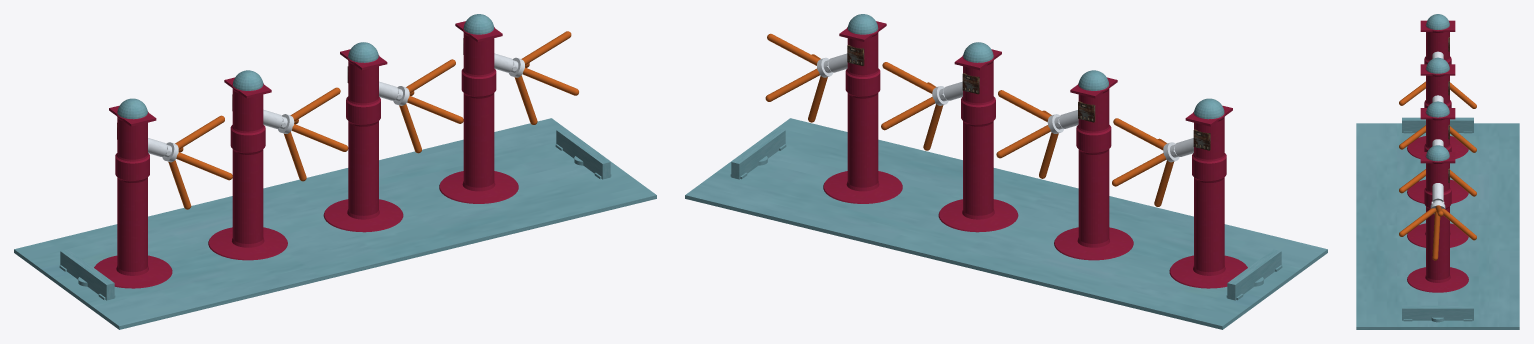
File: Other_Tripod_Turnstile__1122.glb
3 renders of one model, left to right at view 1: azimuth 30°, elevation 25°; view 2: azimuth 150°, elevation 25°; view 3: azimuth 270°, elevation 25°, orthographic. The views are drawn at different scales.
Parts seen in each view (by area): view 1: cabinet::base_plate, cabinet::post_body_-0.36, cabinet::post_body_+1.08, cabinet::post_body_+0.36, cabinet::post_body_-1.08, side_railing_0::frame, side_railing_1::frame, cabinet::dome_cap_-0.36, cabinet::dome_cap_-1.08, cabinet::dome_cap_+1.08, cabinet::dome_cap_+0.36, tripod_hub_0::arm_1 (+3 smaller); view 2: cabinet::base_plate, cabinet::post_body_-0.36, cabinet::post_body_+1.08, cabinet::post_body_+0.36, cabinet::post_body_-1.08, side_railing_0::frame, side_railing_1::frame, cabinet::dome_cap_-0.36, cabinet::dome_cap_-1.08, cabinet::dome_cap_+1.08, cabinet::dome_cap_+0.36, tripod_hub_1::arm_3 (+3 smaller); view 3: cabinet::base_plate, cabinet::post_body_+1.08, cabinet::post_body_+0.36, cabinet::post_body_-0.36, cabinet::post_body_-1.08, side_railing_1::frame, side_railing_0::frame, cabinet::dome_cap_+1.08, cabinet::dome_cap_+0.36, cabinet::dome_cap_-0.36, cabinet::dome_cap_-1.08, tripod_hub_3::arm_2 (+13 smaller).
Boxes of the visible parts, x1,y1,x2,y2 form: cabinet::base_plate: (14, 118, 656, 329); cabinet::post_body_-0.36: (208, 83, 287, 260); cabinet::post_body_+1.08: (439, 27, 518, 203); cabinet::post_body_+0.36: (323, 55, 403, 232); cabinet::post_body_-1.08: (94, 111, 172, 288); side_railing_0::frame: (60, 249, 114, 300); side_railing_1::frame: (556, 128, 610, 179); cabinet::dome_cap_-0.36: (233, 70, 263, 90); cabinet::dome_cap_-1.08: (117, 98, 147, 119); cabinet::dome_cap_+1.08: (463, 14, 494, 34); cabinet::dome_cap_+0.36: (348, 42, 378, 62); tripod_hub_0::arm_1: (176, 152, 232, 180); cabinet::base_plate: (685, 118, 1327, 329); cabinet::post_body_-0.36: (1054, 83, 1133, 260); cabinet::post_body_+1.08: (823, 27, 902, 203); cabinet::post_body_+0.36: (938, 55, 1018, 232); cabinet::post_body_-1.08: (1169, 111, 1247, 288); side_railing_0::frame: (1227, 249, 1281, 300); side_railing_1::frame: (731, 128, 785, 179); cabinet::dome_cap_-0.36: (1078, 70, 1108, 90); cabinet::dome_cap_-1.08: (1194, 98, 1224, 119); cabinet::dome_cap_+1.08: (847, 14, 878, 34); cabinet::dome_cap_+0.36: (963, 42, 993, 62); tripod_hub_1::arm_3: (996, 125, 1050, 158); cabinet::base_plate: (1356, 123, 1519, 329); cabinet::post_body_+1.08: (1407, 155, 1468, 292); cabinet::post_body_+0.36: (1407, 111, 1468, 247); cabinet::post_body_-0.36: (1407, 68, 1468, 203); cabinet::post_body_-1.08: (1407, 24, 1468, 158); side_railing_1::frame: (1402, 305, 1473, 320); side_railing_0::frame: (1402, 117, 1473, 132); cabinet::dome_cap_+1.08: (1426, 145, 1449, 161); cabinet::dome_cap_+0.36: (1426, 101, 1449, 117); cabinet::dome_cap_-0.36: (1426, 57, 1449, 73); cabinet::dome_cap_-1.08: (1426, 14, 1449, 29); tripod_hub_3::arm_2: (1432, 212, 1440, 260).
Size of the model in its own units: 3.36 by 1.05 by 1.14.
Materials: 6 (5 with a texture image).
